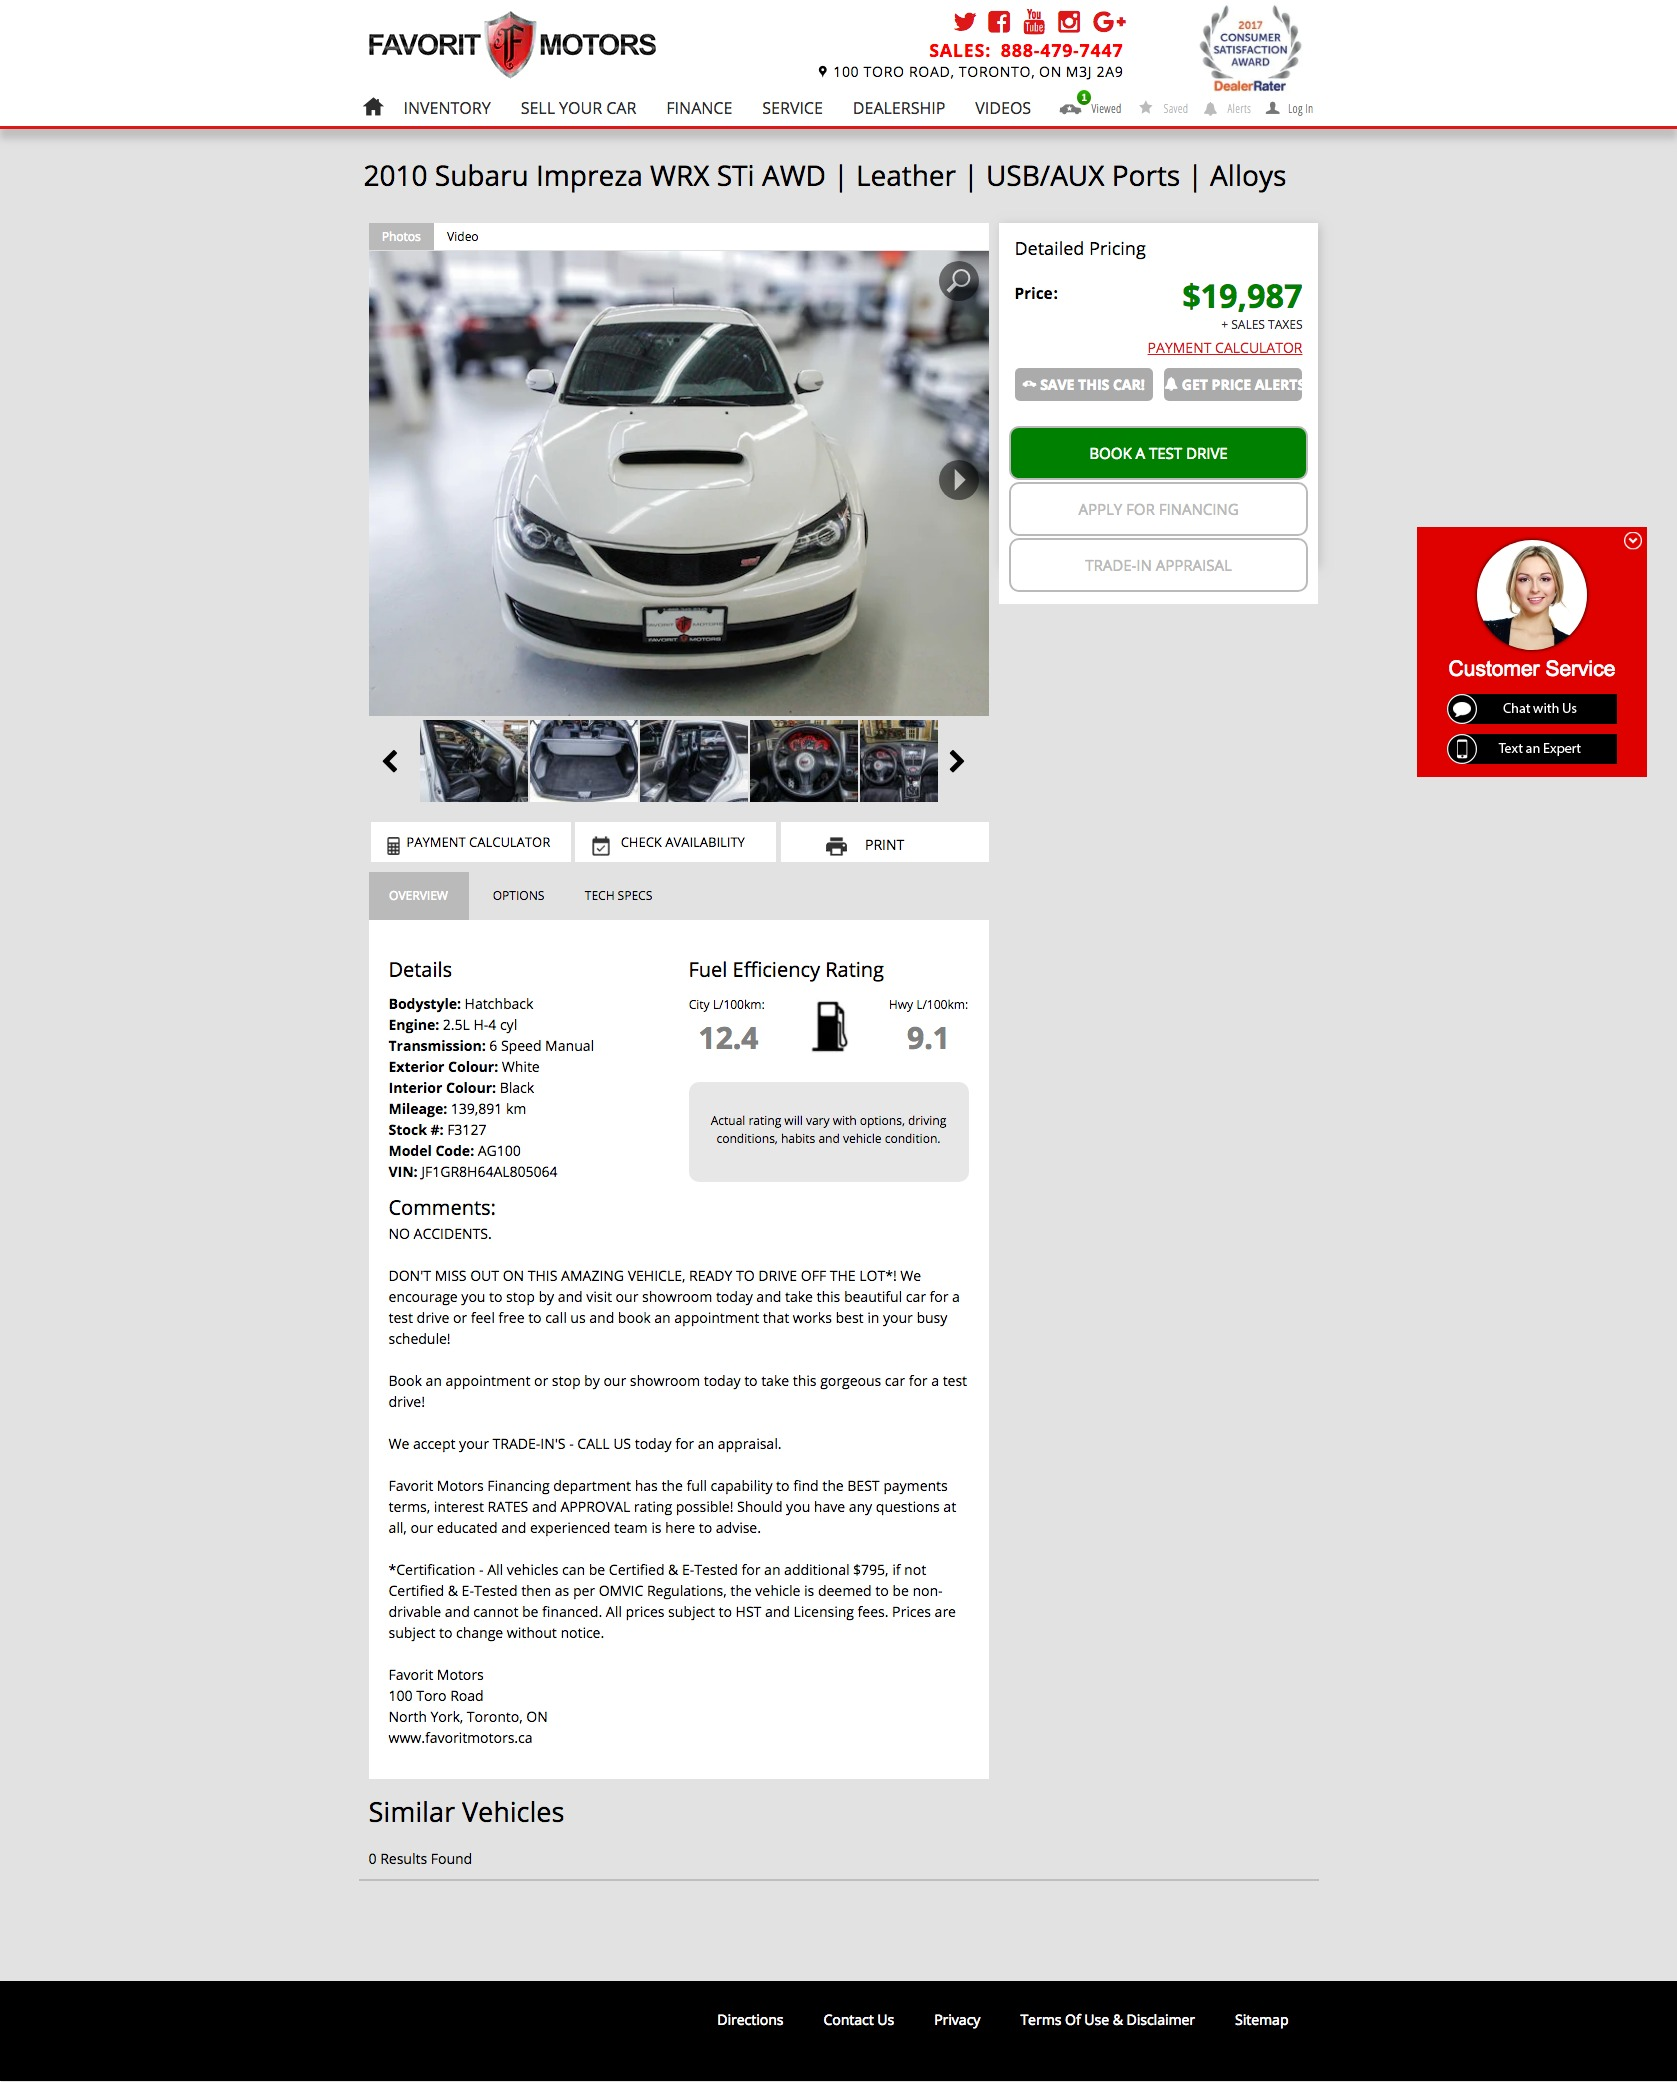car: (950, 751, 967, 773)
